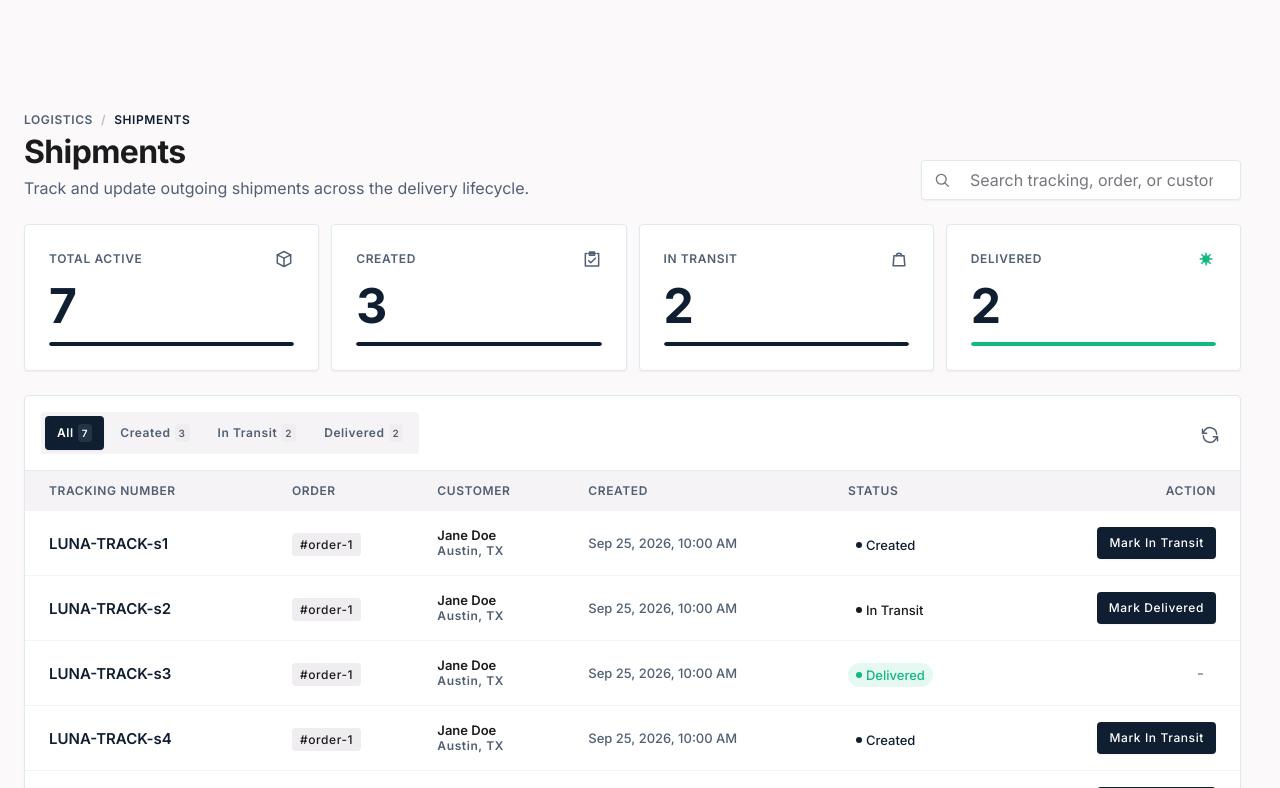
Test: ShipmentQueue › shows the pending label while the delivered command is running
What coordinates should you click on to do the following:
click the button "Mark Delivered" in the row of "LUNA-TRACK-s2"
I would click on:
 (1156, 608)
Its box is [1097,592,1216,624].
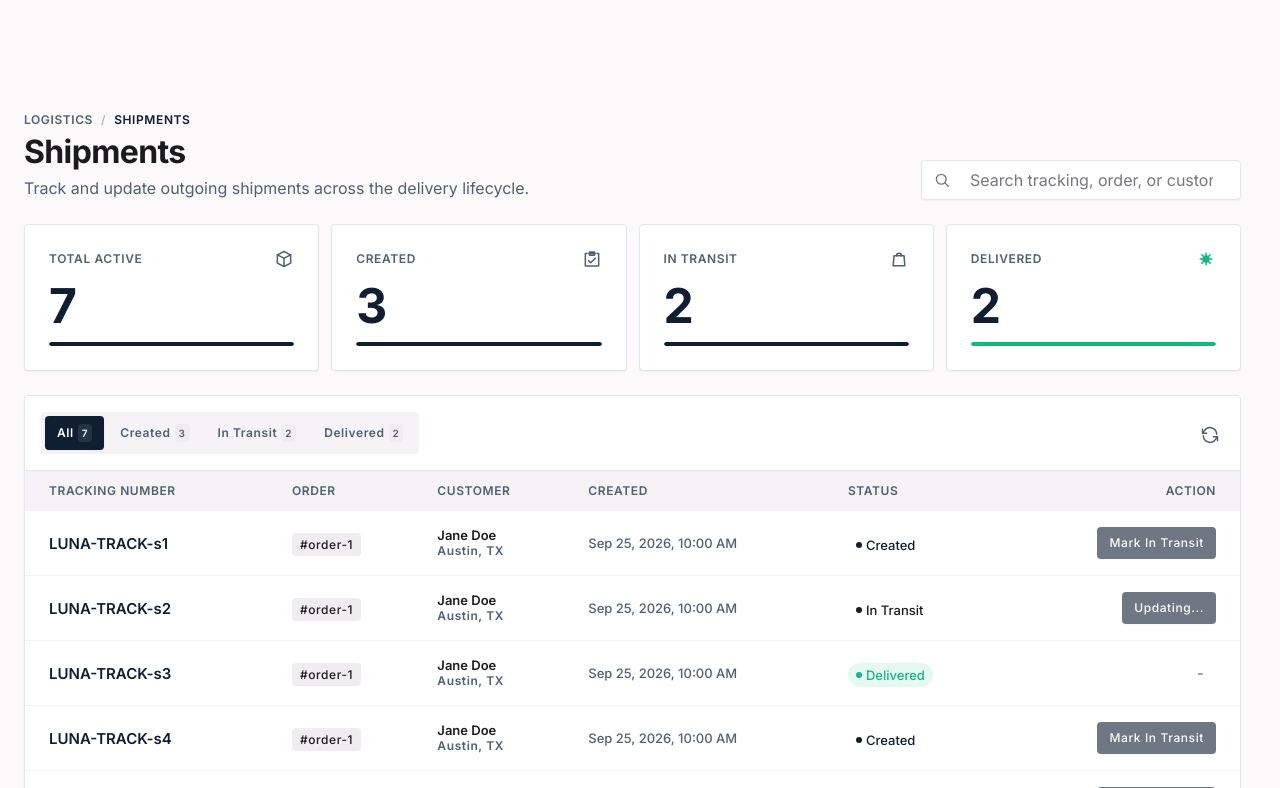
Check: the button "Updating..." is shown, box [1122,592,1216,624]
